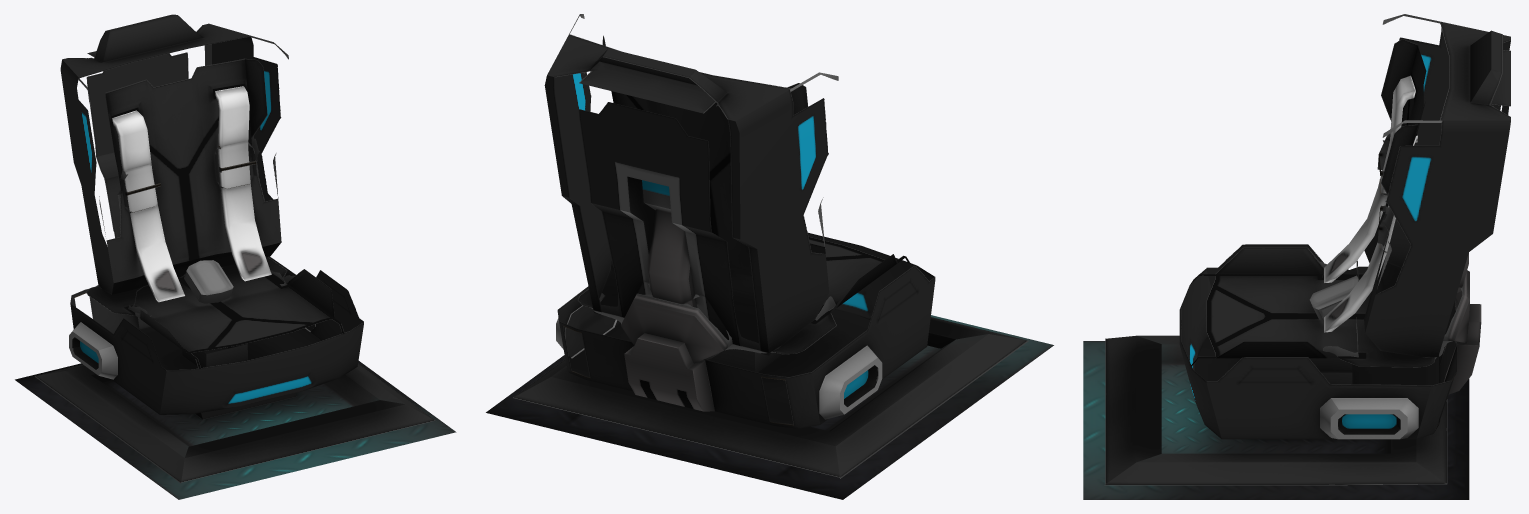
Rendered from obj_interactive_seat_04.fbx.
The picture shows the model from 3 angles, left to right: view 1: azimuth 30°, elevation 25°; view 2: azimuth 150°, elevation 25°; view 3: azimuth 270°, elevation 25°; orthographic projection. The views are drawn at different scales.
Visible parts, largest first — view 1: obj_interactive_seat_04; view 2: obj_interactive_seat_04; view 3: obj_interactive_seat_04.
Part boxes in pixels (left/top/right/bottom): obj_interactive_seat_04: left=15, top=14, right=456, bottom=499; obj_interactive_seat_04: left=486, top=14, right=1053, bottom=499; obj_interactive_seat_04: left=1083, top=14, right=1510, bottom=499.
Size of the model in its own units: 3.5 by 3.8 by 4.
